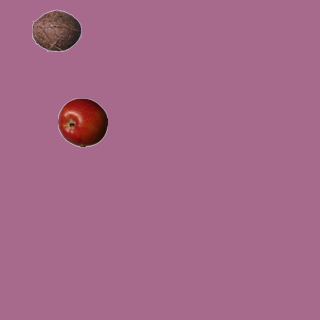Apple Braeburn: (57, 97, 107, 147)
Cocos: (31, 5, 81, 55)
